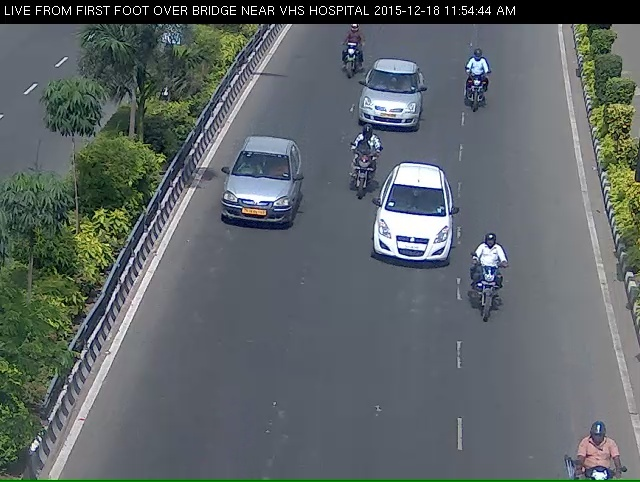Car: (204, 156, 299, 252), (374, 182, 454, 289), (354, 69, 421, 143)
Person: (463, 250, 517, 357), (316, 25, 371, 93), (454, 53, 496, 132), (337, 142, 379, 211)
